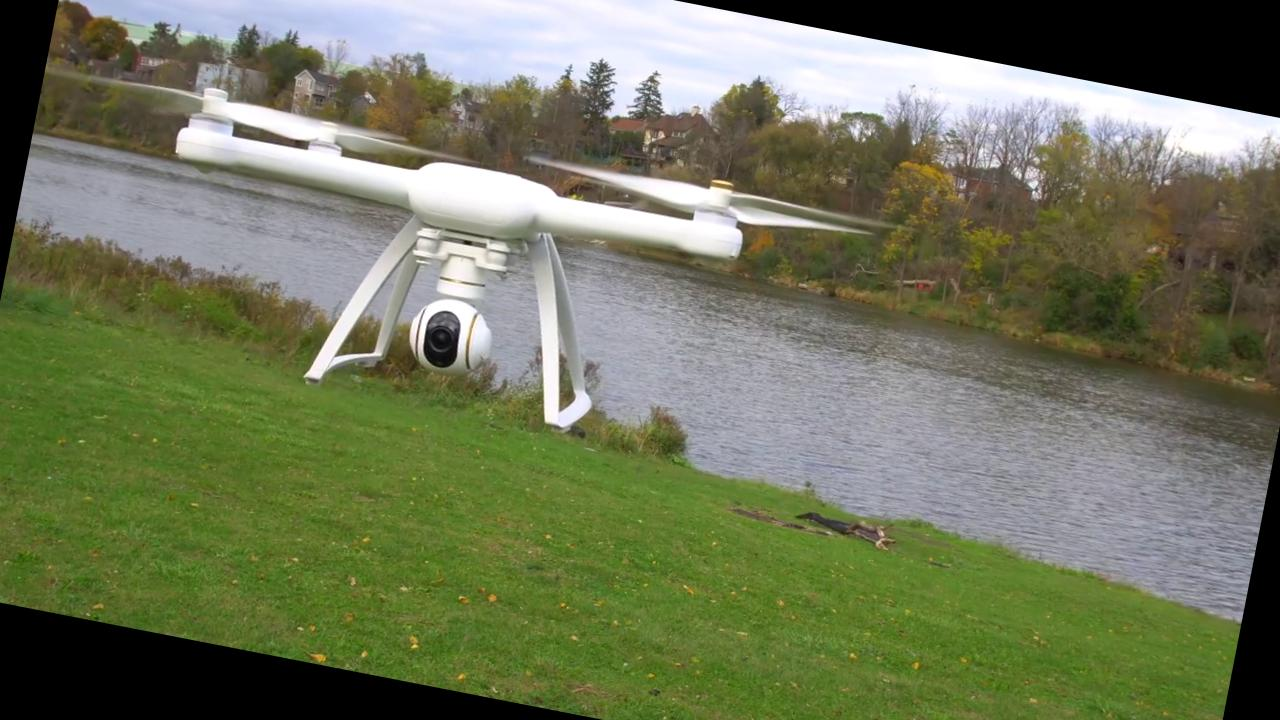drone: (90, 44, 894, 361)
